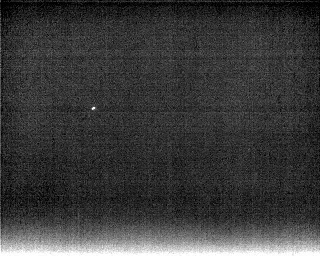BIRD: (90, 104, 97, 112)
